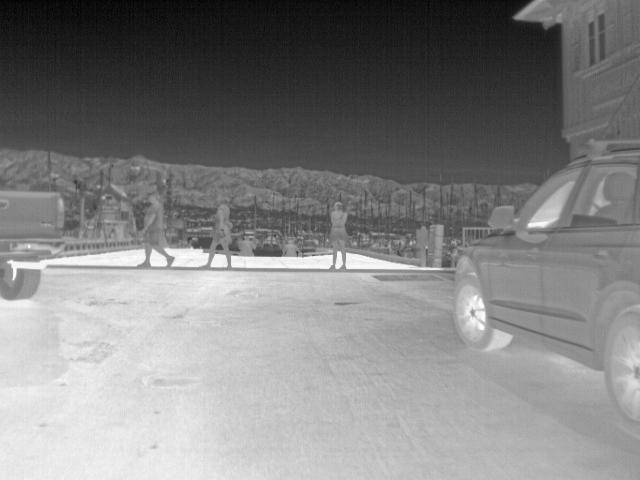car: (449, 139, 638, 430), (0, 185, 70, 303)
person: (137, 193, 176, 266), (198, 200, 235, 269), (325, 198, 351, 270), (280, 238, 303, 258), (235, 237, 256, 258)
